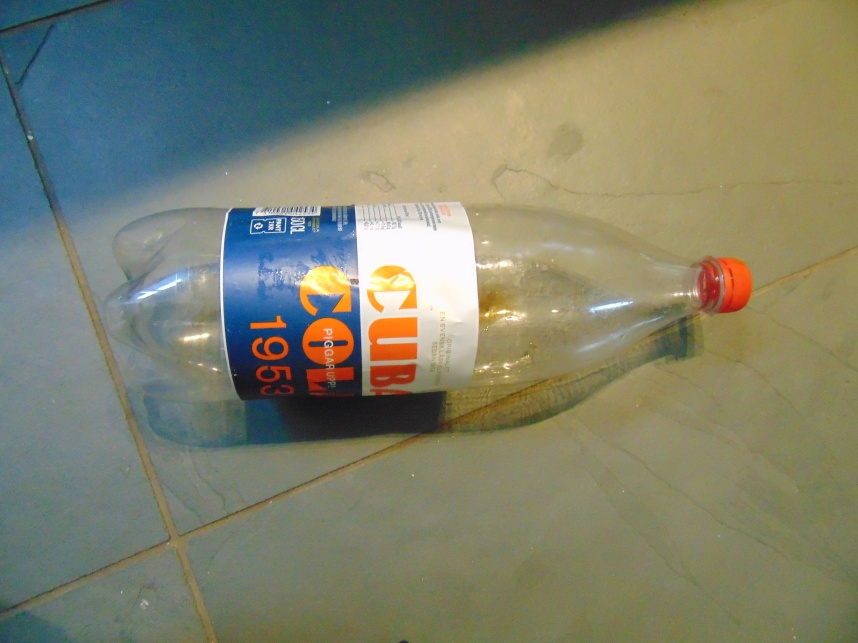plastic_bottle: (107, 203, 753, 402)
